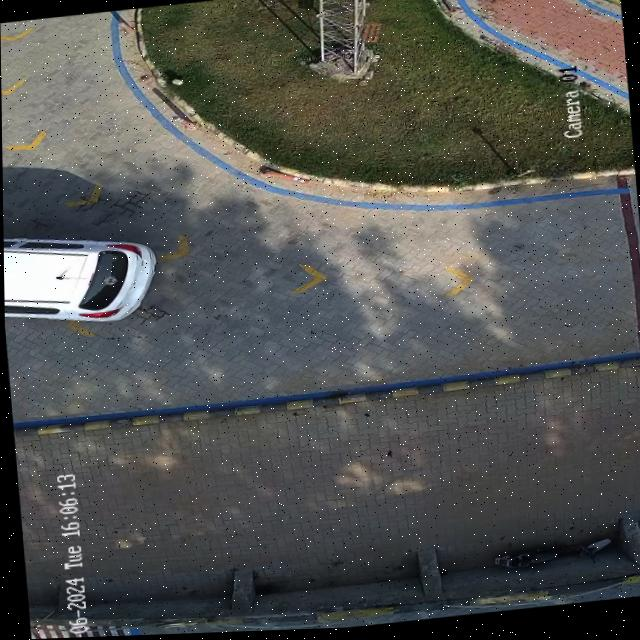car: (3, 236, 153, 320)
